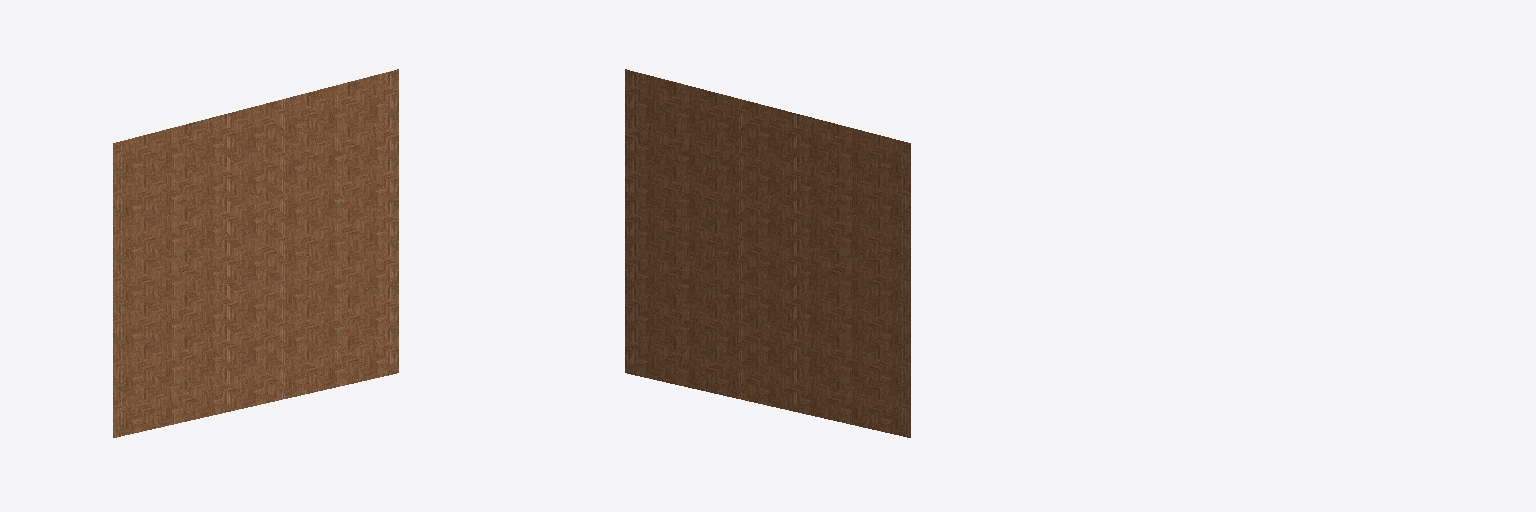
3 renders of one model, left to right at view 1: azimuth 30°, elevation 25°; view 2: azimuth 150°, elevation 25°; view 3: azimuth 270°, elevation 25°, orthographic.
Parts seen in each view (by area): view 1: node_shape0; view 2: node_shape0; view 3: none.
Boxes of the visible parts, <box> form: node_shape0: <box>113,69,398,437</box>; node_shape0: <box>625,69,910,437</box>.
Size of the model in its own units: 75 by 76.1 by 0.
Materials: 1 (1 with a texture image).